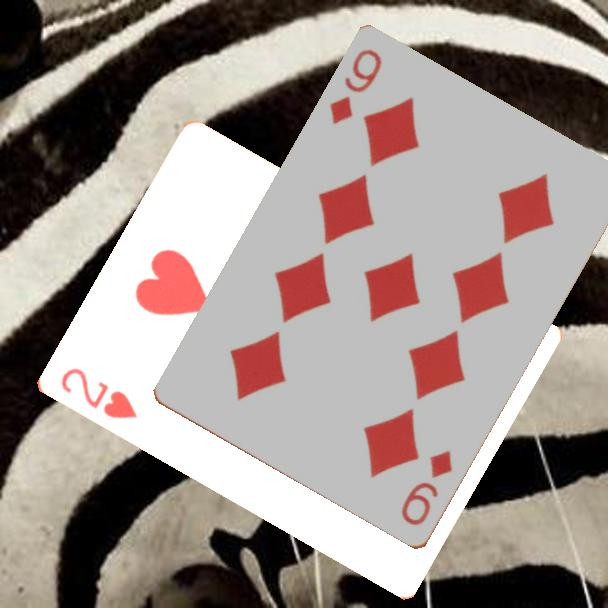d09: (397, 447, 456, 530), (326, 46, 385, 128)
h02: (56, 364, 140, 422)
